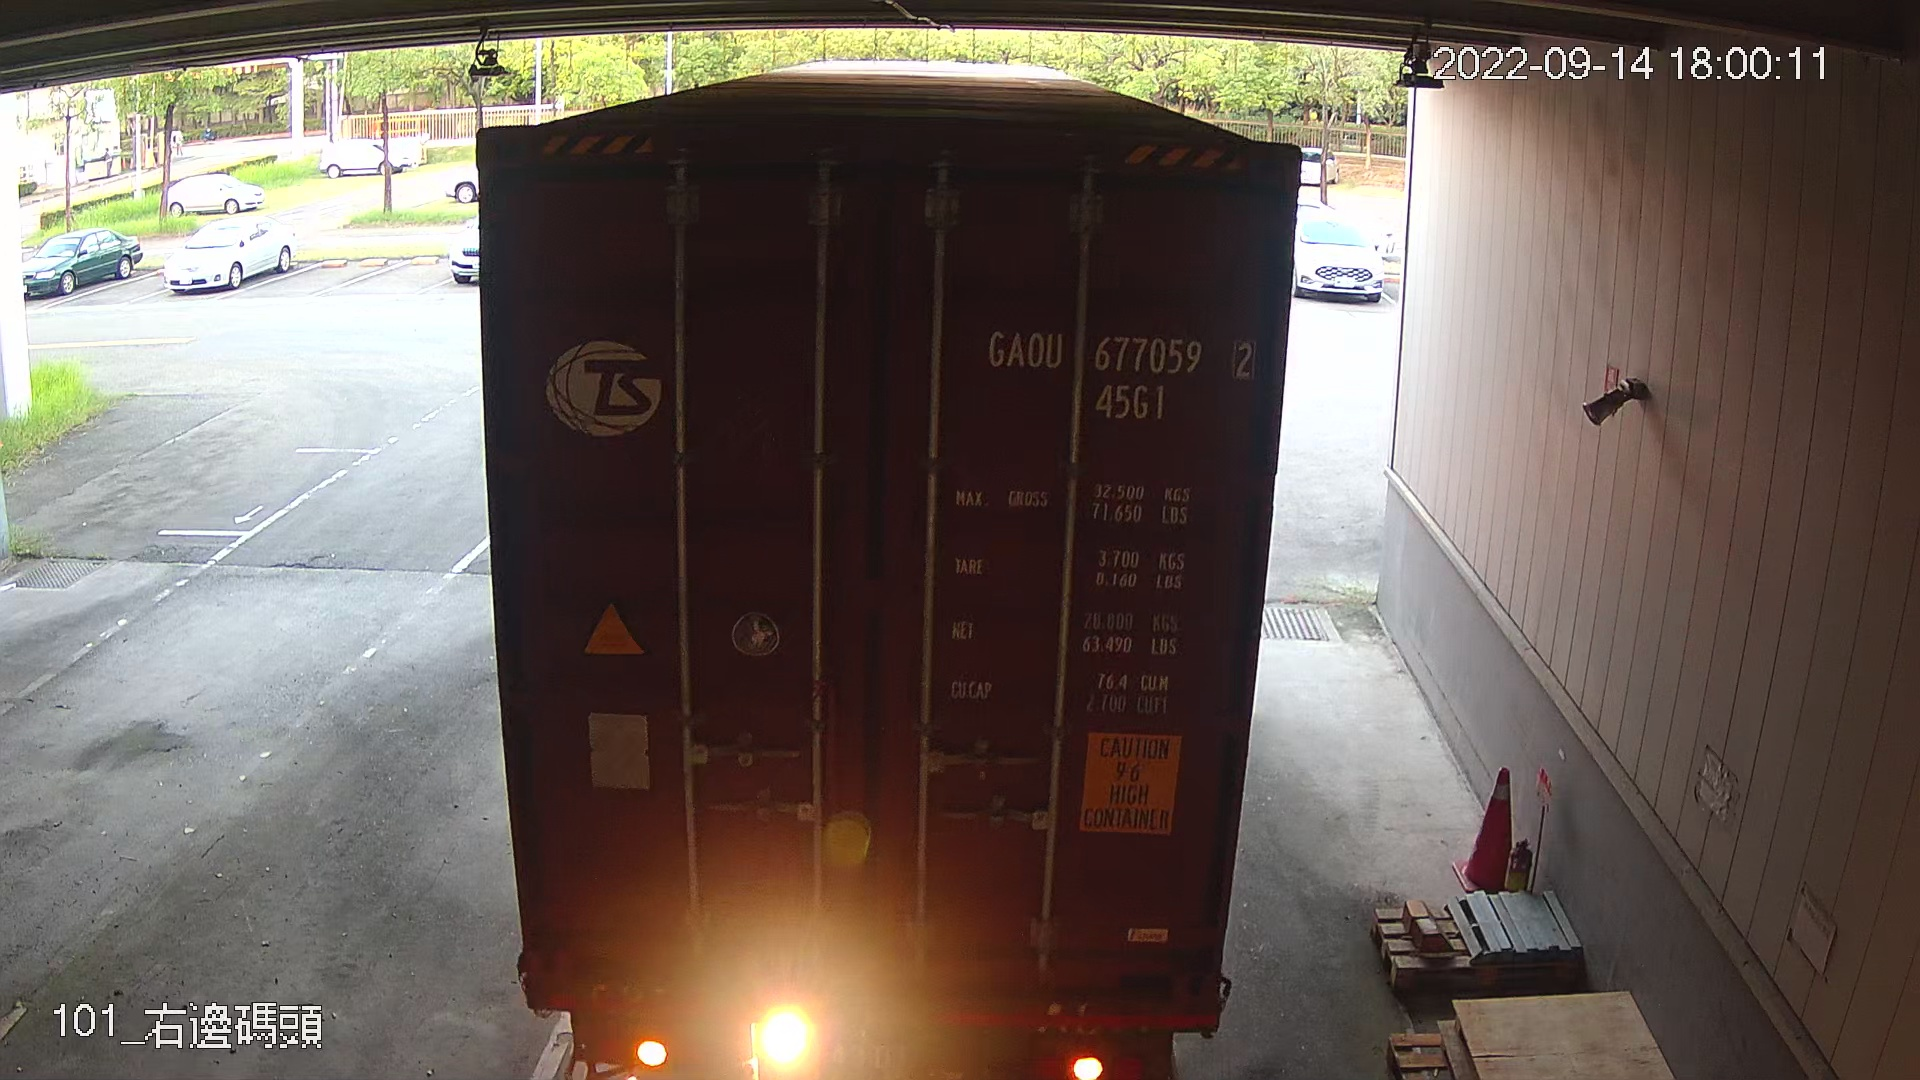container: (967, 310, 1262, 429)
